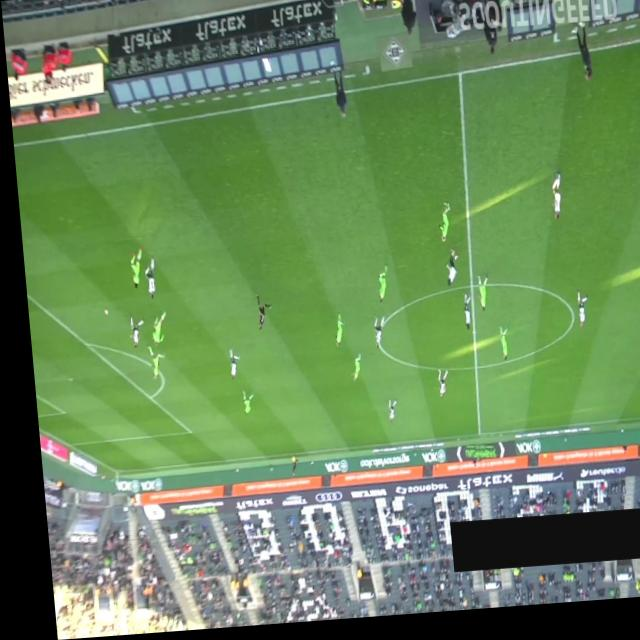player: (123, 248, 140, 291), (143, 312, 162, 349), (430, 208, 447, 248), (545, 180, 559, 228), (121, 315, 139, 350), (137, 258, 151, 301), (438, 255, 454, 292), (469, 280, 484, 319), (369, 270, 384, 308), (139, 346, 154, 382), (220, 351, 235, 384), (366, 319, 380, 354), (428, 374, 442, 405), (569, 297, 580, 336), (326, 318, 339, 350), (341, 357, 355, 386), (491, 332, 502, 367), (456, 300, 466, 337), (233, 392, 247, 418), (379, 404, 390, 427)
referee: (249, 297, 267, 334), (281, 459, 289, 480)
